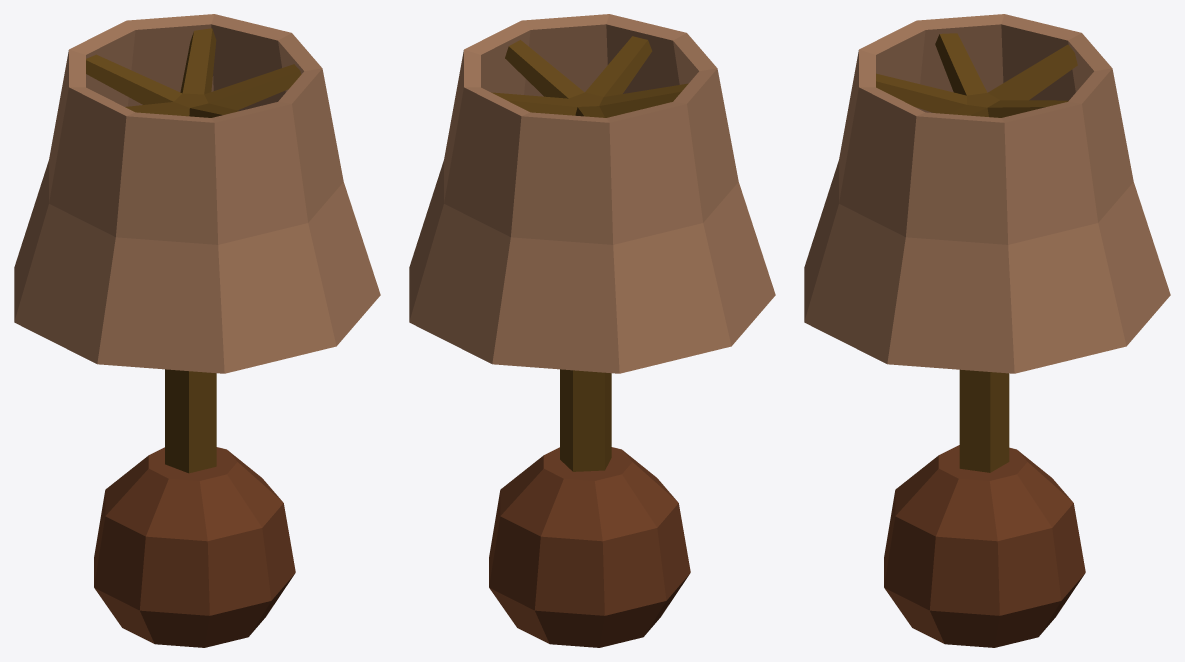
File: Lamp1.glb
3 views of the same model, side by side, from view 1: azimuth 30°, elevation 25°; view 2: azimuth 150°, elevation 25°; view 3: azimuth 270°, elevation 25° (orthographic).
Parts seen in each view (by area): view 1: Lamp1; view 2: Lamp1; view 3: Lamp1.
Boxes of the visible parts, x1,y1,x2,y2 form: Lamp1: (14,14,380,647); Lamp1: (409,14,775,647); Lamp1: (804,14,1170,647).
Size of the model in its own units: 0.3408 by 0.5543 by 0.3356.
